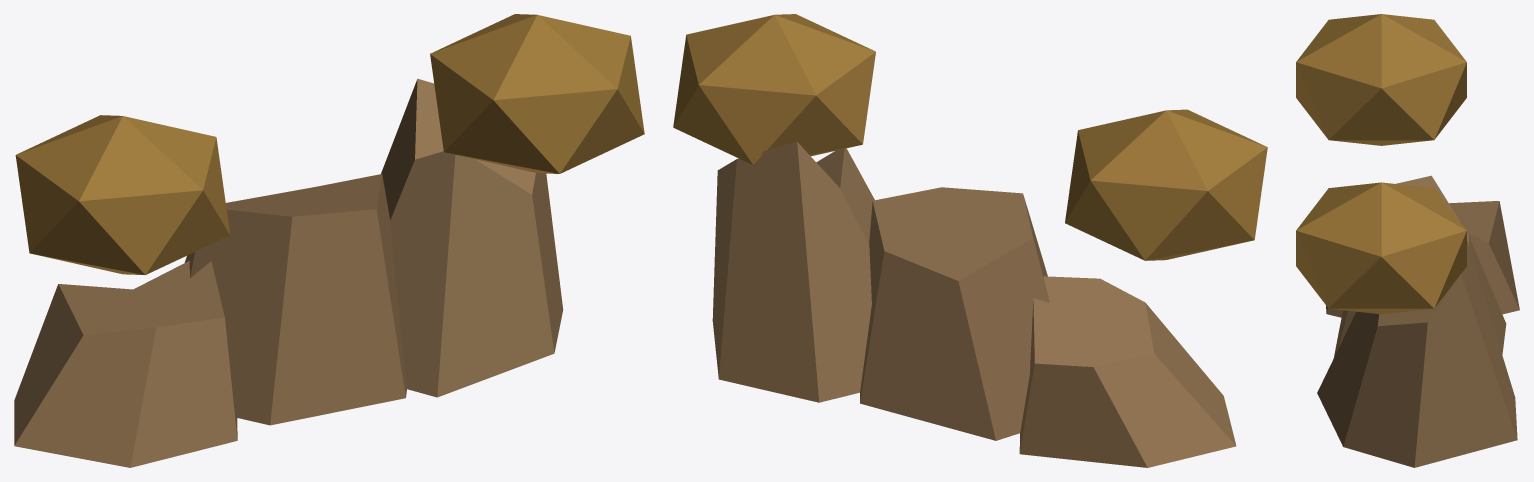
Rendered from map-boundaries-v5__farm_03.glb.
3 renders of one model, left to right at view 1: azimuth 30°, elevation 25°; view 2: azimuth 150°, elevation 25°; view 3: azimuth 270°, elevation 25°, orthographic. The views are drawn at different scales.
Visible parts, largest first — view 1: farm_03; view 2: farm_03; view 3: farm_03.
Part boxes in pixels (box(x1,y1,x2,y2)): farm_03: box(14, 14, 644, 467); farm_03: box(673, 14, 1267, 467); farm_03: box(1296, 14, 1519, 467).
Bounding box in the file's own units: 1.67 × 0.85 × 0.6463.
